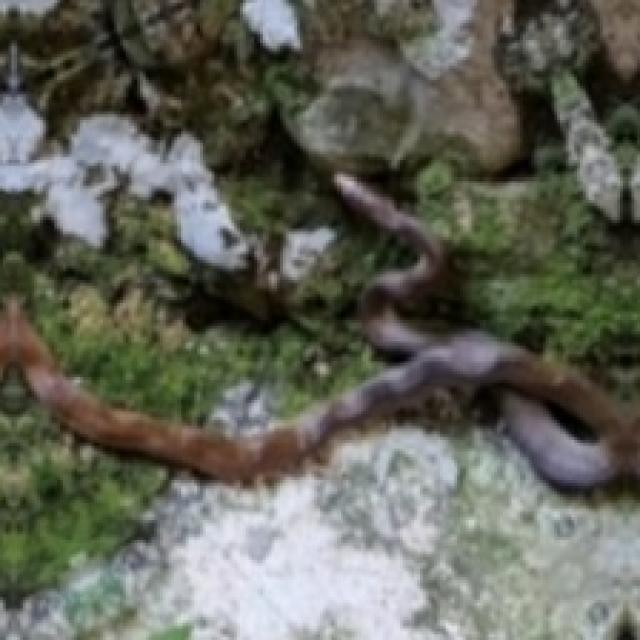reddish rat snake: (0, 171, 637, 489)
